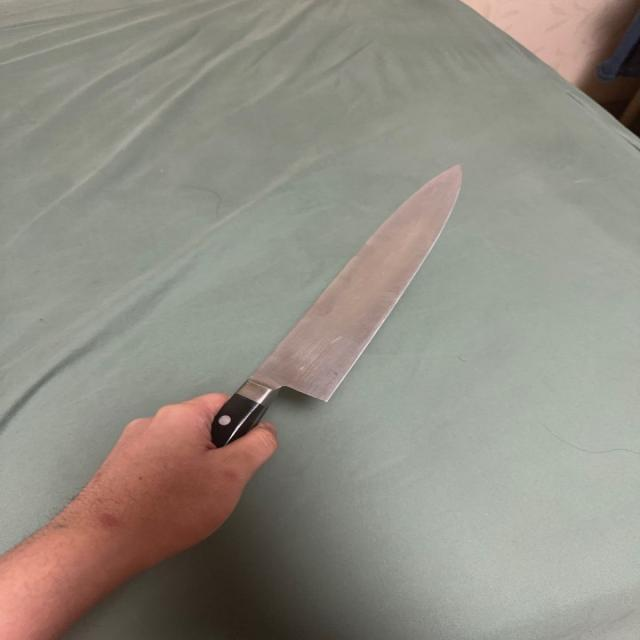knife: (200, 158, 462, 438)
